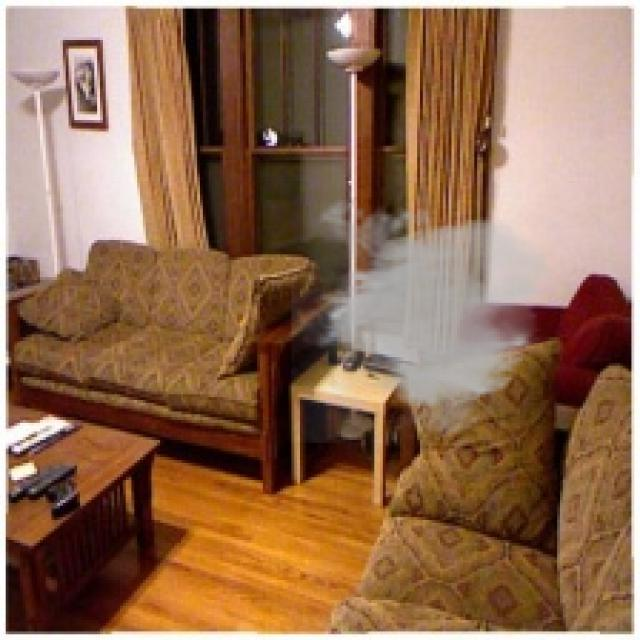Smoke: (292, 191, 554, 443)
